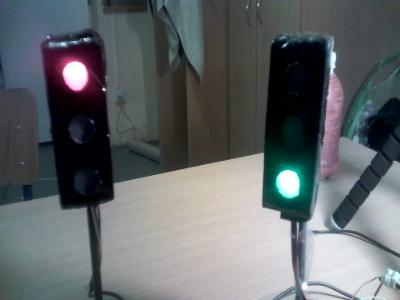trafficlight_green: (267, 43, 327, 209)
trafficlight_red: (47, 41, 109, 198)
